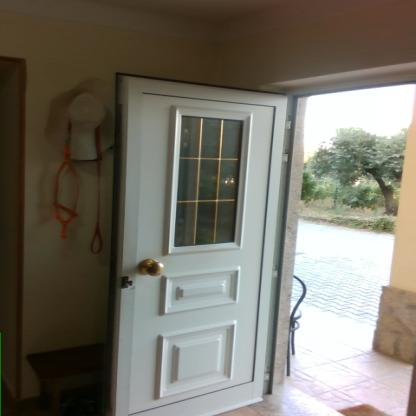open: (103, 58, 416, 416)
